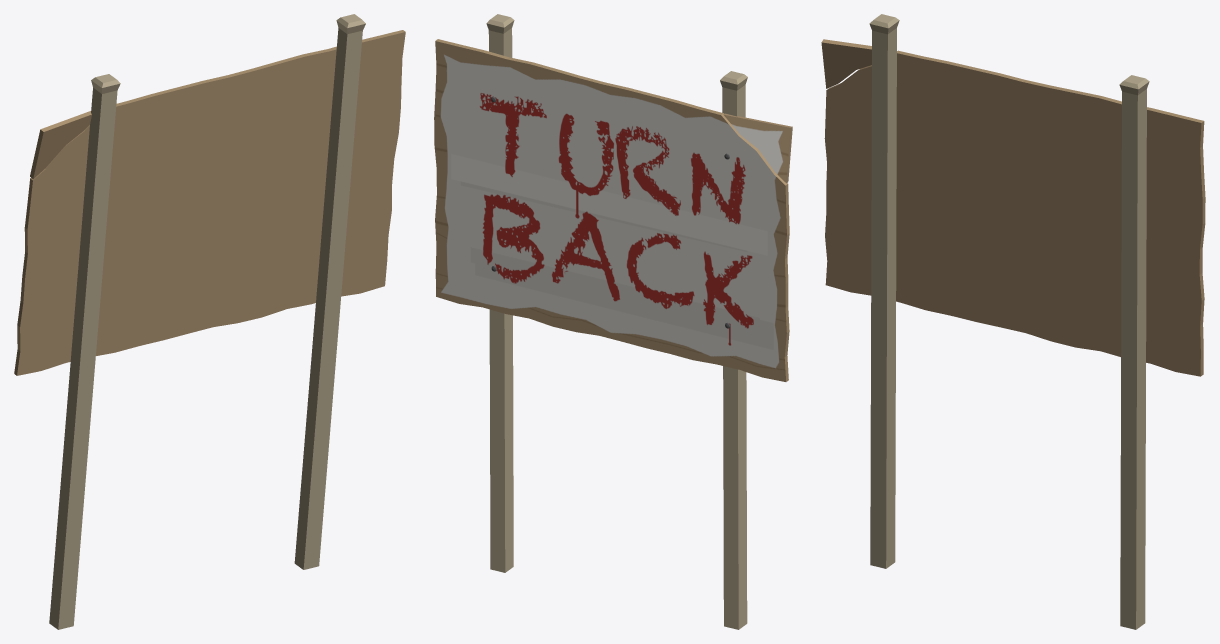
The model's file is turn-back-sign.glb.
The picture shows the model from 3 angles, left to right: view 1: azimuth 30°, elevation 25°; view 2: azimuth 150°, elevation 25°; view 3: azimuth 330°, elevation 25°; orthographic projection. The views are drawn at different scales.
Visible parts, largest first — view 1: TurnBackSign; view 2: TurnBackSign; view 3: TurnBackSign.
Part boxes in pixels (x1,y1,x2,y2): TurnBackSign: (14,14,405,629); TurnBackSign: (434,14,792,629); TurnBackSign: (821,14,1205,629).
Size of the model in its own units: 0.9264 by 1.3 by 0.1323.
4 materials, 1 textured.
